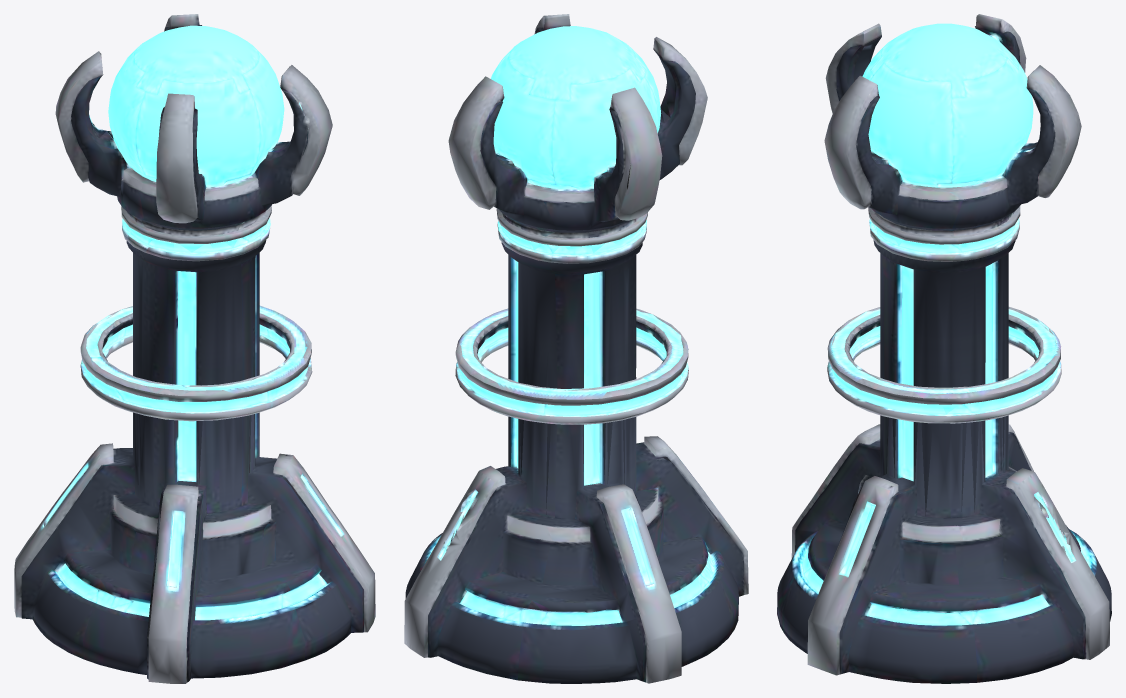
The model's file is warrior-2-tier-2.glb.
3 renders of one model, left to right at view 1: azimuth 30°, elevation 25°; view 2: azimuth 150°, elevation 25°; view 3: azimuth 270°, elevation 25°, orthographic.
Parts seen in each view (by area): view 1: moving-assembly, fixed-platform; view 2: moving-assembly, fixed-platform; view 3: moving-assembly, fixed-platform.
Part boxes in pixels (x1,y1,x2,y2): moving-assembly: (55,14,332,484); fixed-platform: (14,356,375,683); moving-assembly: (448,14,707,514); fixed-platform: (404,352,748,683); moving-assembly: (824,14,1081,515); fixed-platform: (777,364,1111,683).
Size of the model in its own units: 0.9059 by 1.73 by 0.9017.
Materials: 1 (1 with a texture image).
